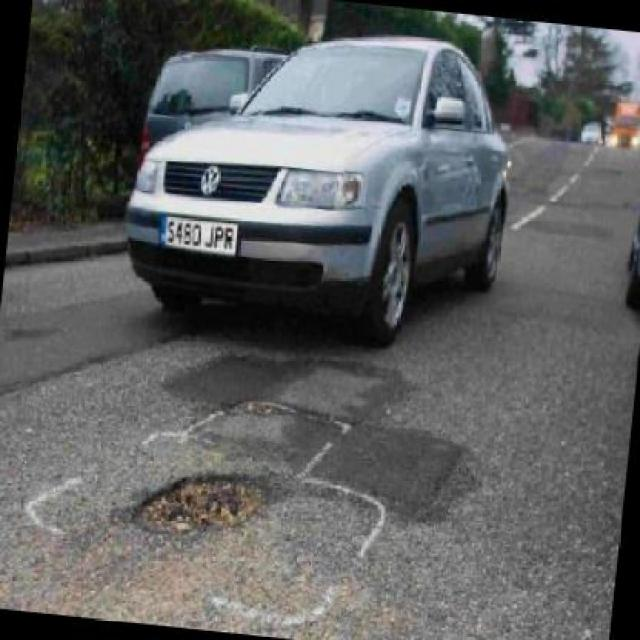pothole1: (124, 459, 267, 547), (219, 386, 298, 420)
